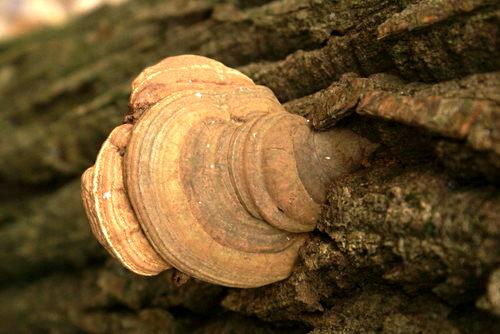Ganoderma - Fruit Body: (82, 52, 335, 287)
